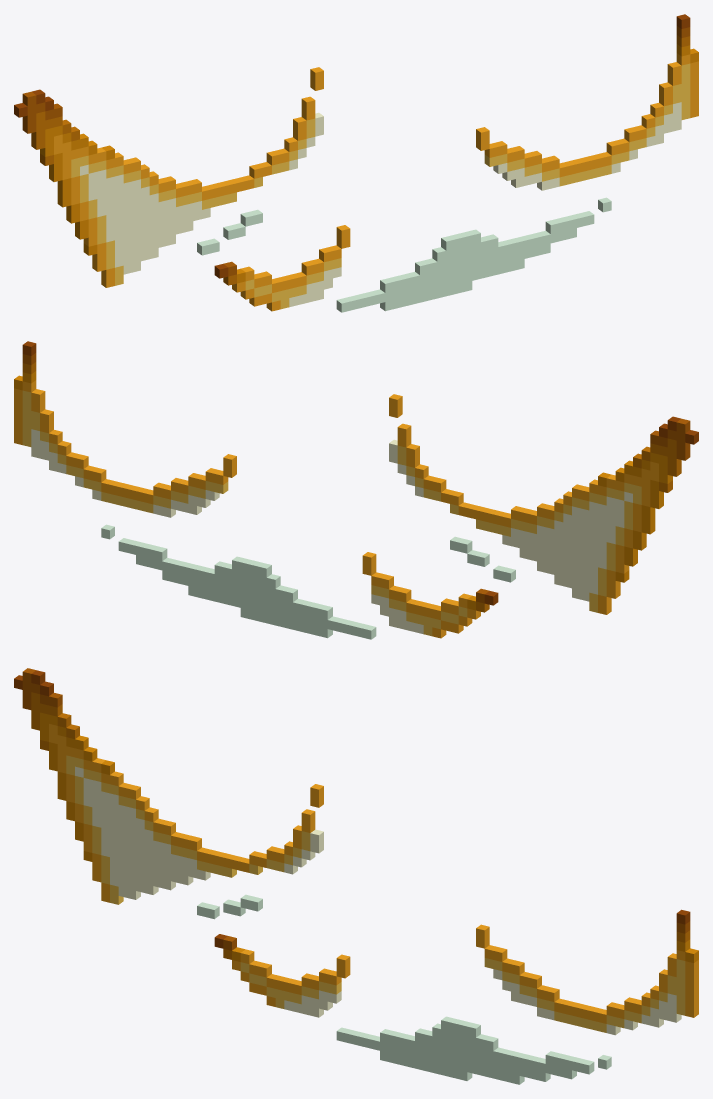
File: Fight_113_2_11_fx.obj
3 views of the same model, one above another, from view 1: azimuth 30°, elevation 25°; view 2: azimuth 150°, elevation 25°; view 3: azimuth 330°, elevation 25° (orthographic).
Bounding box in the file's own units: 7.8 × 3.3 × 0.1.
Materials: 1 (1 with a texture image).
